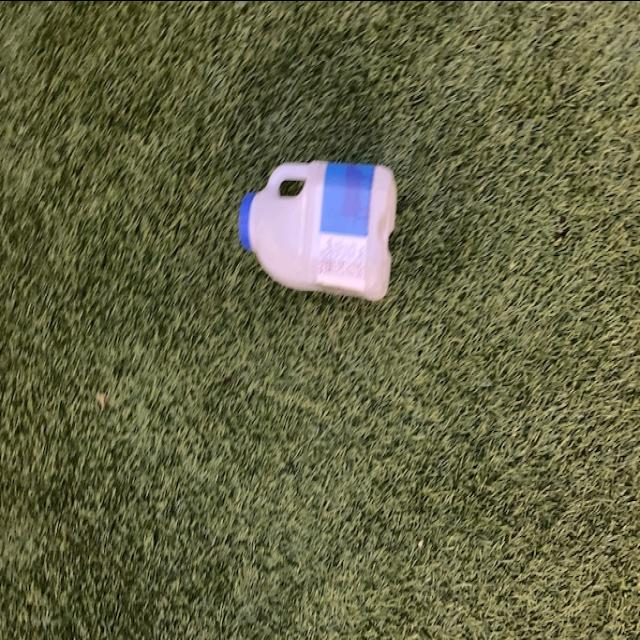litter: (236, 154, 403, 298)
